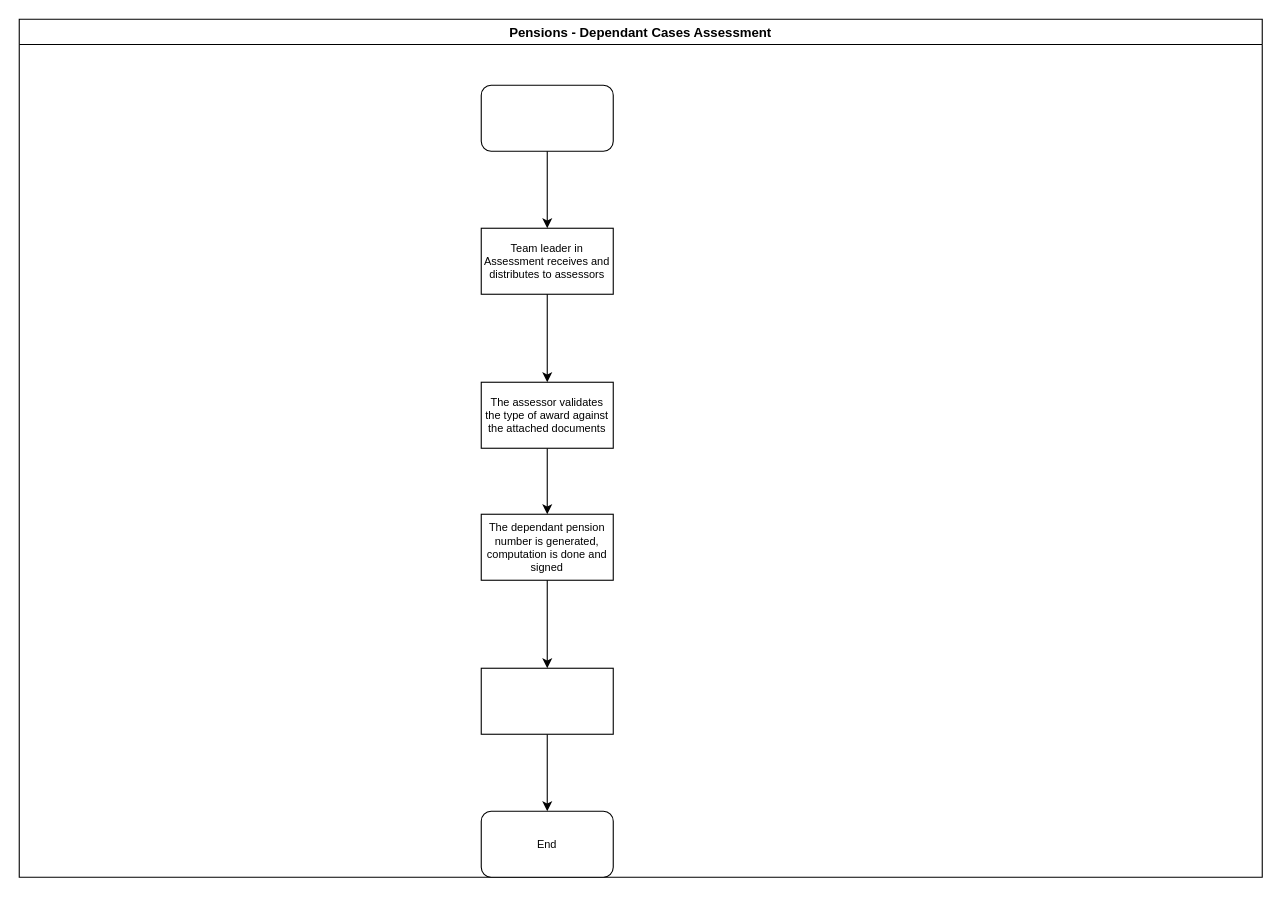
The diagram is 1282 pixels wide and 897 high, and some of its shapes have lost their labels. Each missing label, with the centre of its shape:
"Forward to directorate for approval, notification on email" belongs at point 546,700.
"Start" belongs at point 546,117.
